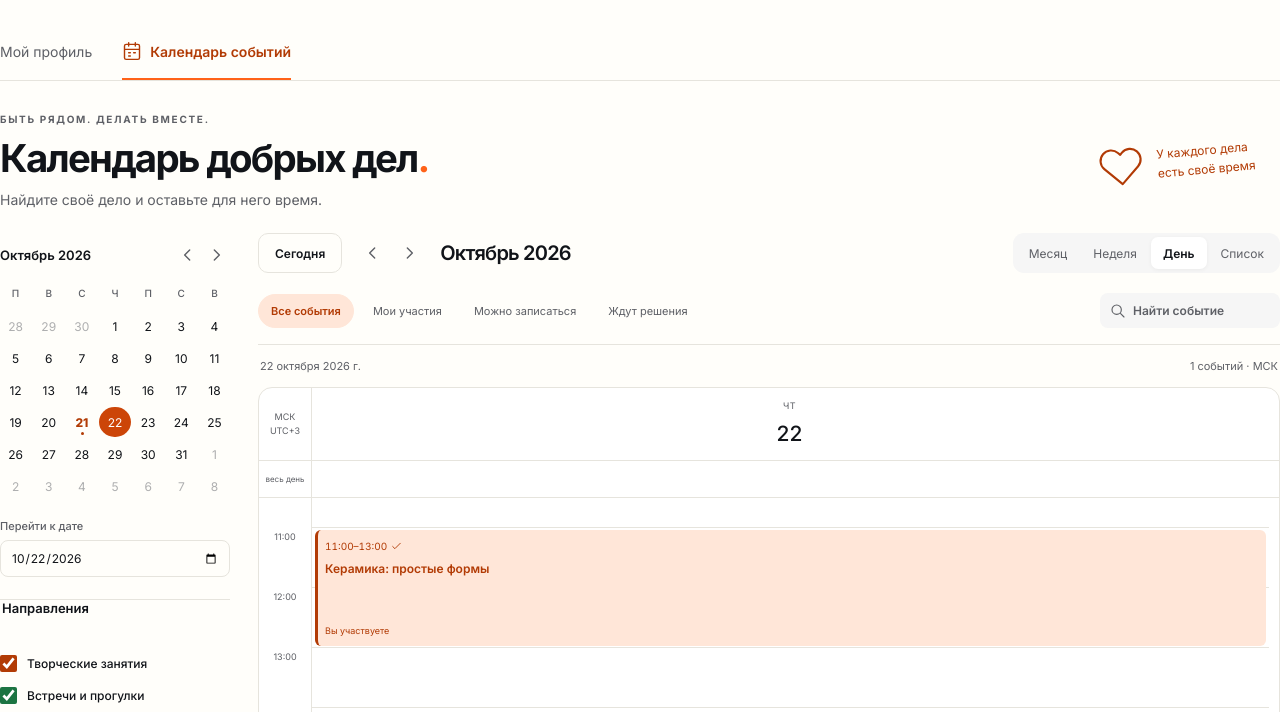
Test: calendar interaction › withdraws only after confirmation and updates participation
This screenshot has width=1280, height=712.
(page scrolled)
Click the button with aria-label "Керамика: простые формы, ".
click(356, 546)  # box [315,530,1266,646]
(page scrolled)
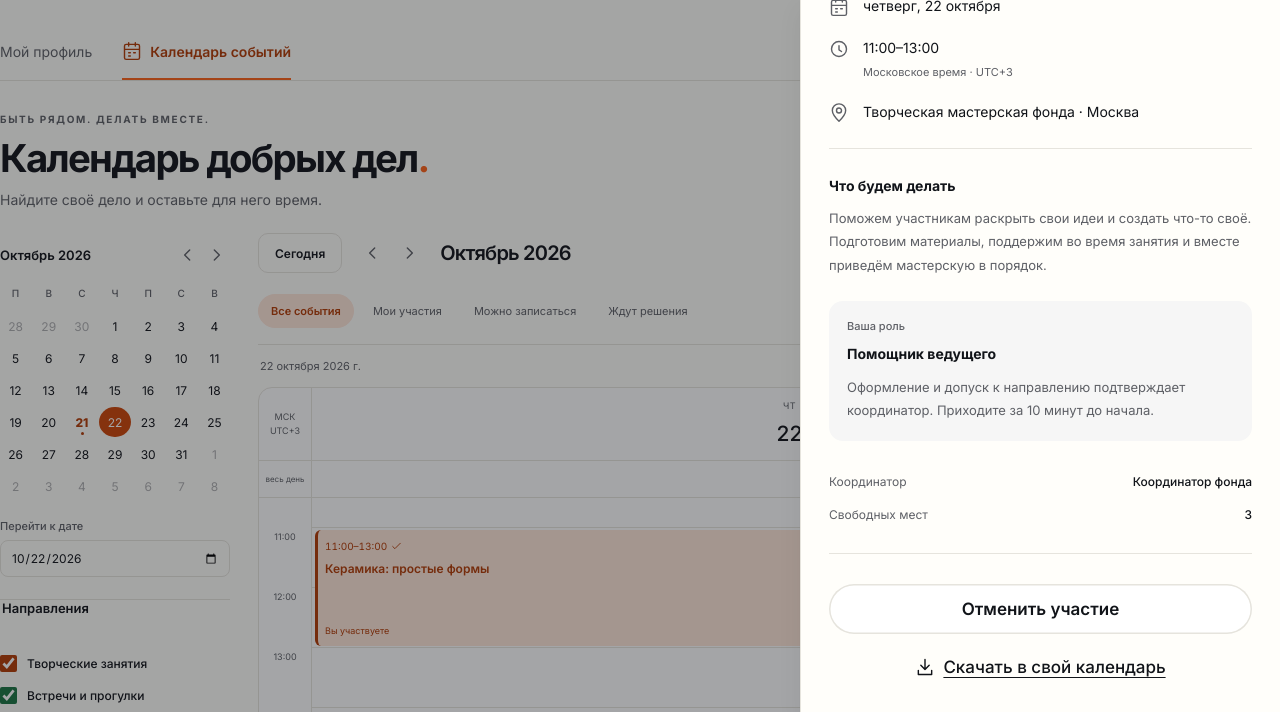
Click the button "Отменить участие".
click(1040, 609)  # box [829,584,1252,634]
(page scrolled)
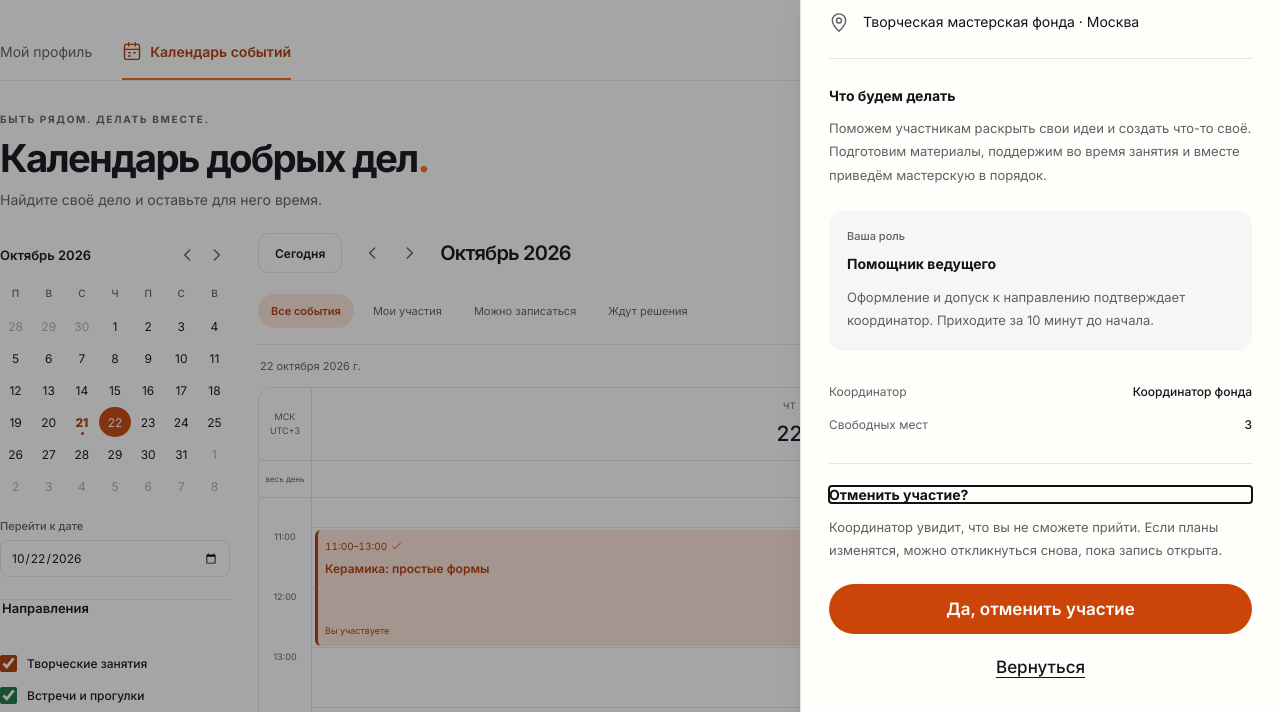
Click the button "Да, отменить участие".
click(1040, 609)  # box [829,584,1252,634]
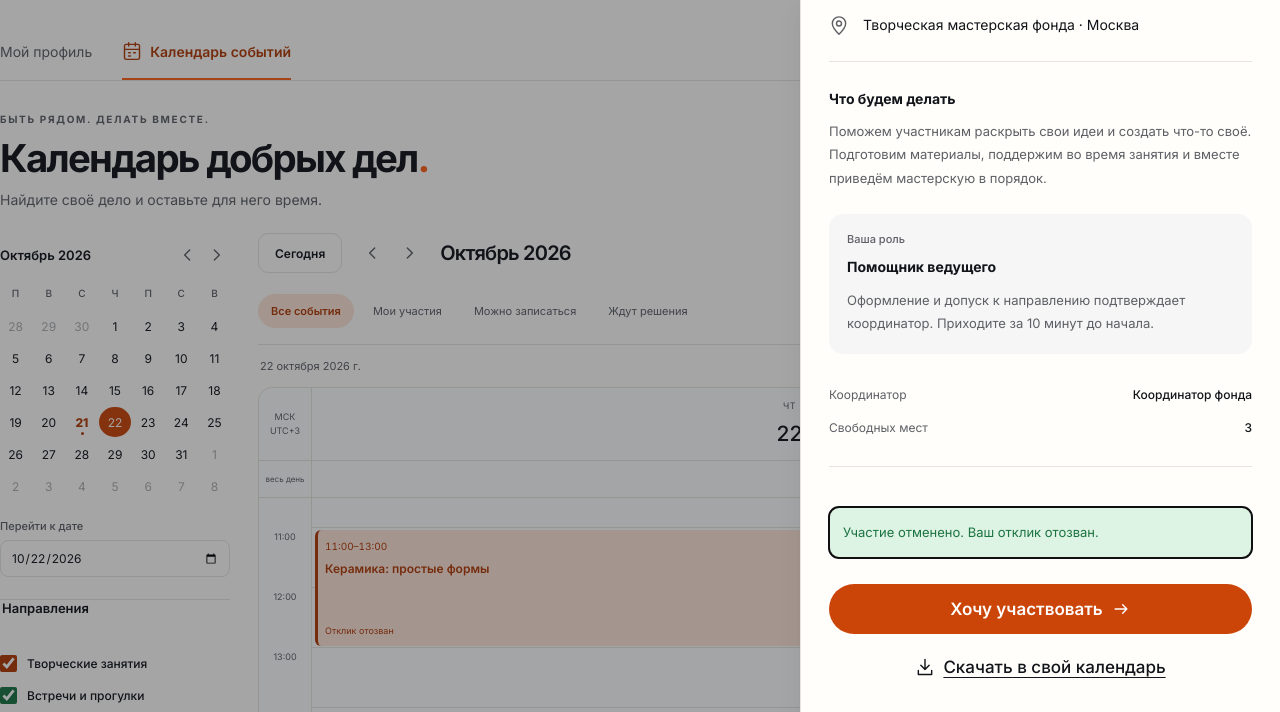
Check: the message shows "отозван", box [843,524,1099,540]
Check: the button "Хочу участвовать" is shown, box [829,584,1252,634]
